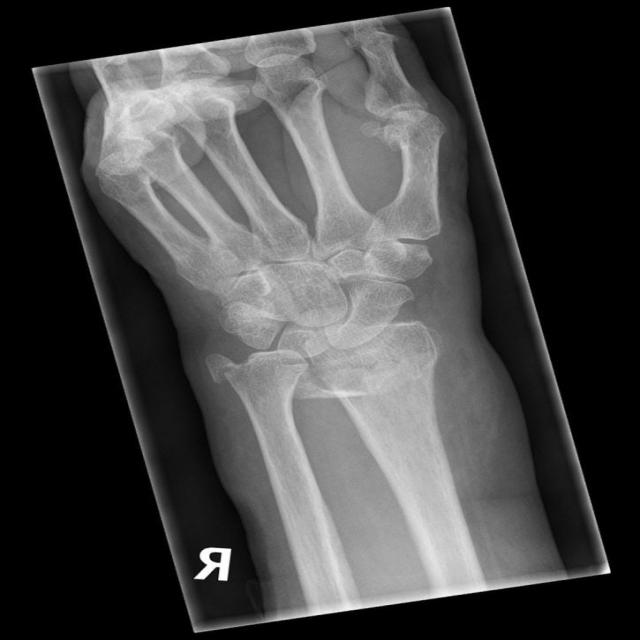Transverse Displaced: (194, 349, 263, 389)
